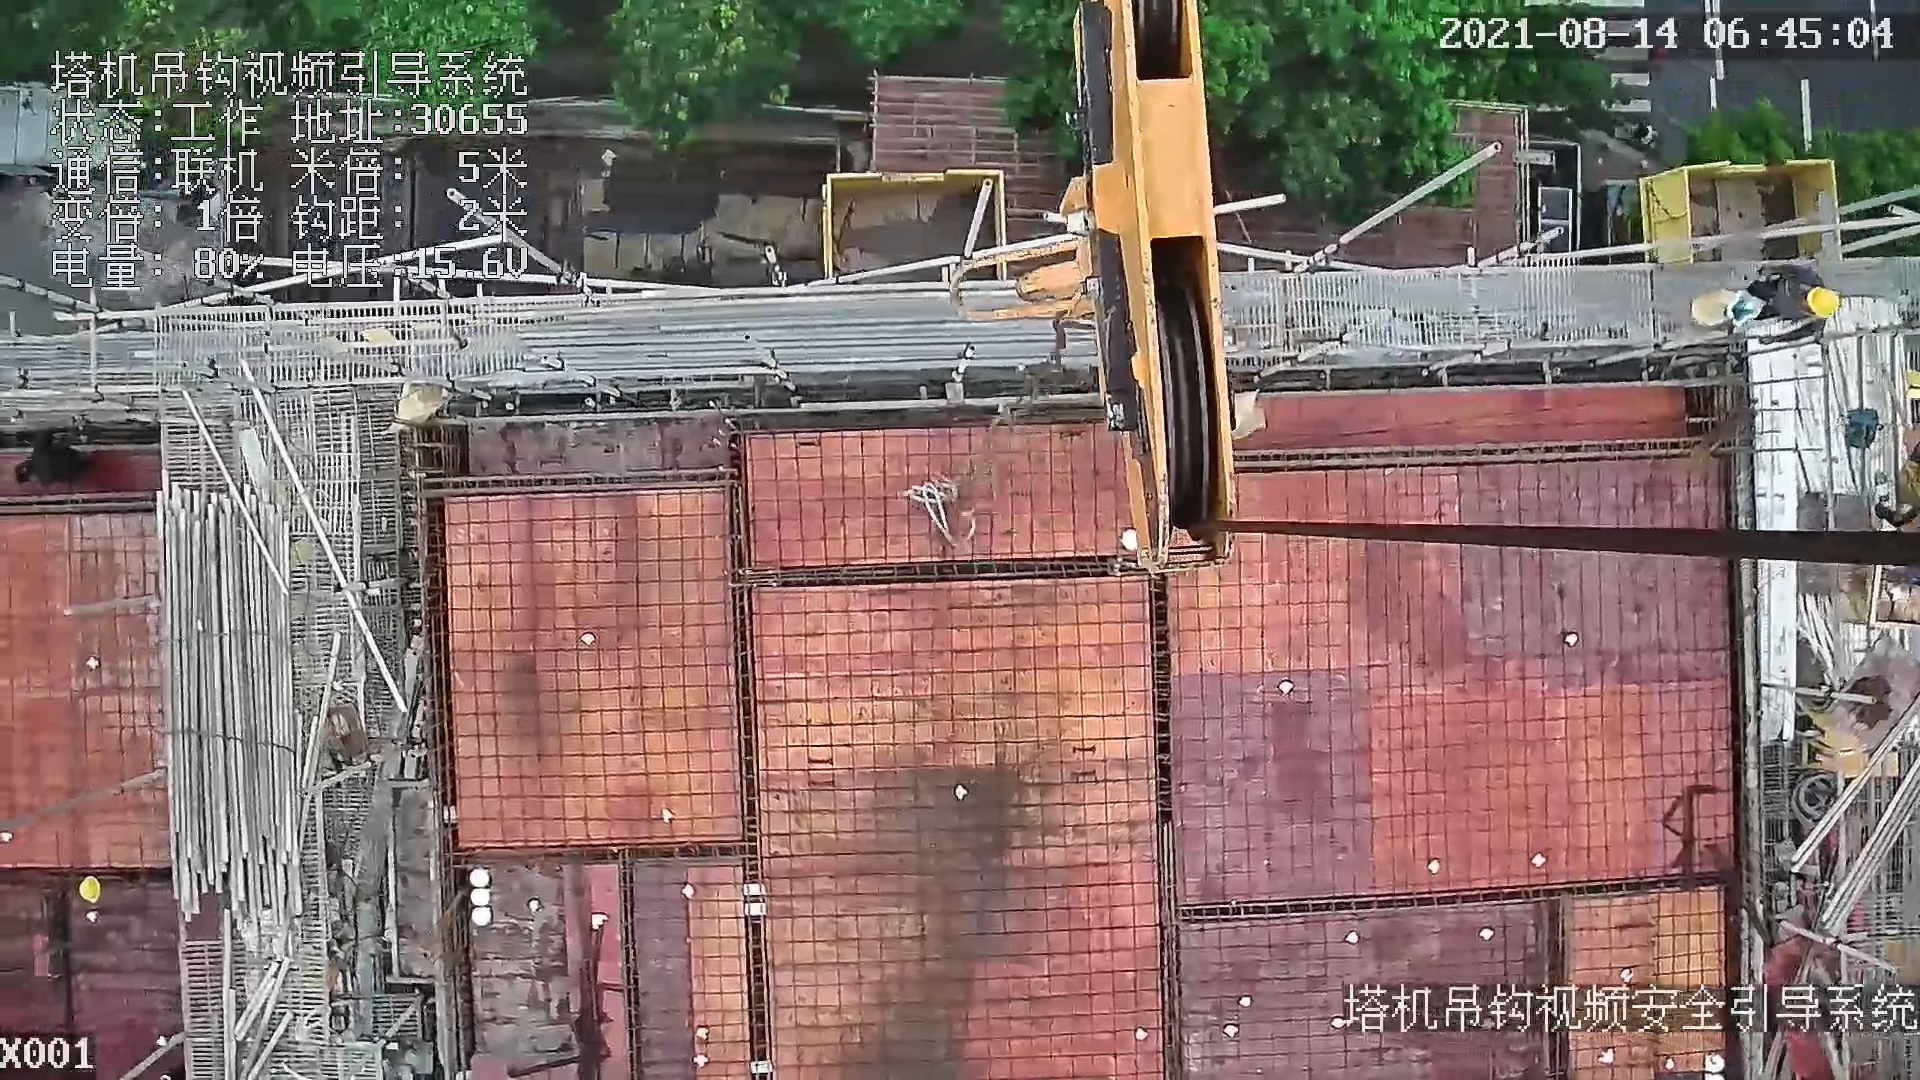helmet: (1800, 283, 1841, 320), (78, 874, 103, 905)
person: (1729, 259, 1838, 346), (11, 439, 92, 493)
